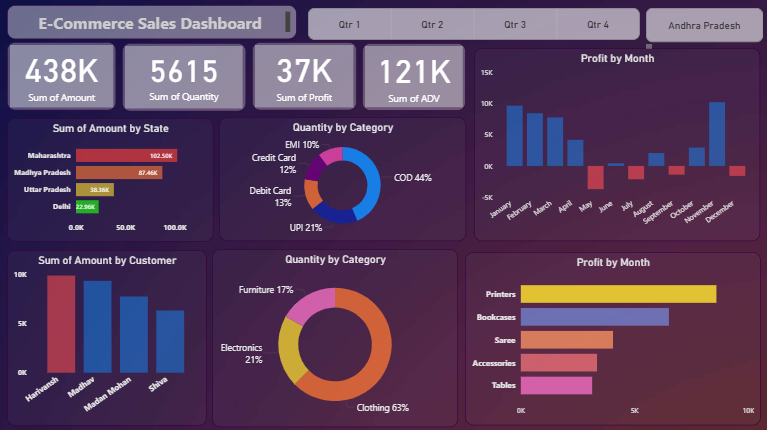

The dashboard page shown, as its layout file describes it:
{"tool":"powerbi","page":{"name":"Page 1","canvas":[1280,720],"ordinal":0},"visuals":[{"type":"textbox","box":[13.3,10,483.3,56.7],"z":0},{"type":"lineStackedColumnComboChart","title":"Profit by Month","fields":{"Category":["orders.Order Date.Variation.Date Hierarchy.Month","orders.Order Date.Variation.Date Hierarchy.Day"],"Y":["Details.Profit"]},"box":[792.3,81,477.1,322.4],"z":1000},{"type":"barChart","title":"Profit by Month","fields":{"Y":["Details.Profit"],"Category":["Details.Sub-Category"]},"box":[777.1,421.4,492.9,288.6],"z":2000},{"type":"donutChart","title":"Quantity by Category","fields":{"Category":["Details.Category"],"Y":["Details.Quantity"]},"box":[355.7,417.1,410,297.1],"z":3000},{"type":"donutChart","title":"Quantity by Category","fields":{"Y":["Details.Quantity"],"Category":["Details.PaymentMode"]},"box":[365.8,196.7,411.7,206.7],"z":4000},{"type":"cardVisual","fields":{"Data":["Details.Amount"]},"box":[13,72.3,182.2,114.2],"z":5000},{"type":"advancedSlicerVisual","fields":{"Values":["orders.Order Date.Variation.Date Hierarchy.Quarter"]},"box":[510.4,10.1,563.9,63.6],"z":6000},{"type":"advancedSlicerVisual","fields":{"Values":["orders.State"]},"box":[1073.3,10,205.6,80],"z":7000},{"type":"cardVisual","fields":{"Data":["Details.Profit"]},"box":[422.2,72.3,174.9,114.2],"z":8000},{"type":"cardVisual","fields":{"Data":["Details.ADV"]},"box":[604.3,73.7,173.5,112.8],"z":9000},{"type":"cardVisual","fields":{"Data":["Details.Quantity"]},"box":[205.3,73.7,206.7,114.2],"z":10000},{"type":"columnChart","title":"Sum of Amount by Customer","fields":{"Category":["orders.CustomerName"],"Y":["Details.Amount"]},"box":[13.8,417.5,332.5,292.5],"z":11000},{"type":"barChart","fields":{"Category":["orders.State"],"Y":["Details.Amount"]},"box":[12.5,197.5,343.8,206.2],"z":12000}]}

Visuals, with their boxes in screenshot pixels (x1, y1, x2, y2), scaled from the page's 1280x720 canvas onto the 767x430 screenshot:
textbox: pyautogui.locateOnScreen(8, 6, 298, 40)
"Profit by Month" lineStackedColumnComboChart: pyautogui.locateOnScreen(475, 48, 761, 241)
"Profit by Month" barChart: pyautogui.locateOnScreen(466, 252, 761, 424)
"Quantity by Category" donutChart: pyautogui.locateOnScreen(213, 249, 459, 427)
"Quantity by Category" donutChart: pyautogui.locateOnScreen(219, 117, 466, 241)
cardVisual - Details.Amount: pyautogui.locateOnScreen(8, 43, 117, 111)
advancedSlicerVisual - orders.Order Date.Variation.Date Hierarchy.Quarter: pyautogui.locateOnScreen(306, 6, 644, 44)
advancedSlicerVisual - orders.State: pyautogui.locateOnScreen(643, 6, 766, 54)
cardVisual - Details.Profit: pyautogui.locateOnScreen(253, 43, 358, 111)
cardVisual - Details.ADV: pyautogui.locateOnScreen(362, 44, 466, 111)
cardVisual - Details.Quantity: pyautogui.locateOnScreen(123, 44, 247, 112)
"Sum of Amount by Customer" columnChart: pyautogui.locateOnScreen(8, 249, 208, 424)
barChart - orders.State x Details.Amount: pyautogui.locateOnScreen(7, 118, 214, 241)
